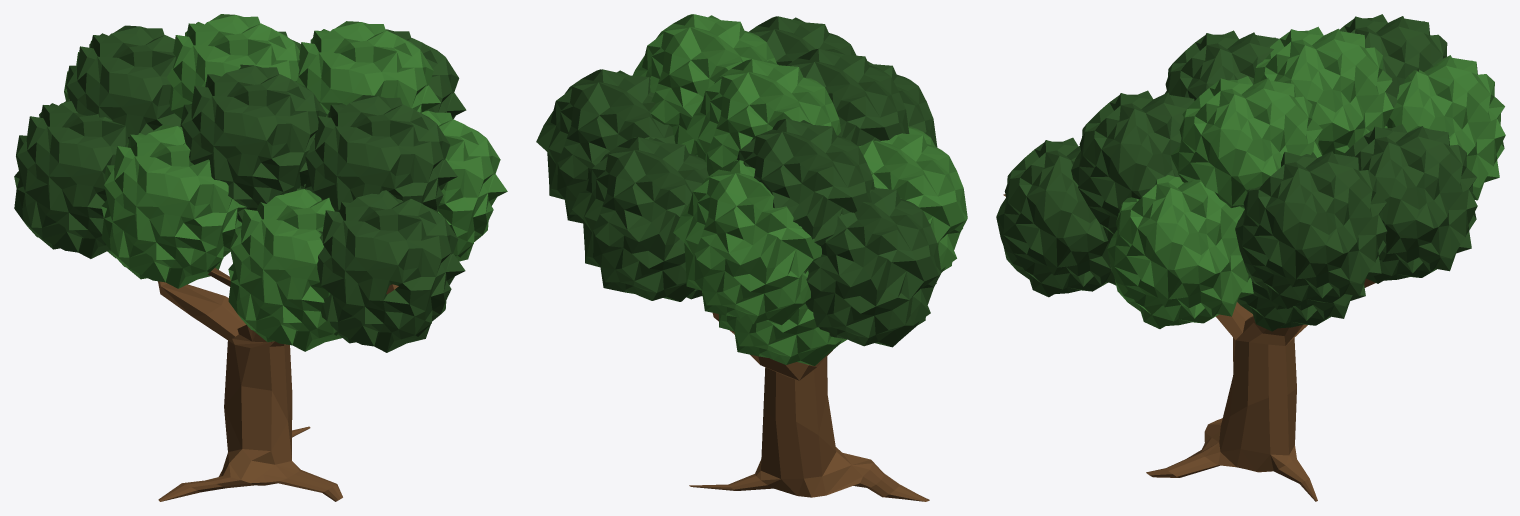
The model's file is tree.gltf.
3 renders of one model, left to right at view 1: azimuth 30°, elevation 25°; view 2: azimuth 150°, elevation 25°; view 3: azimuth 270°, elevation 25°, orthographic. The views are drawn at different scales.
Parts seen in each view (by area): view 1: LowPoly Tree .026; view 2: LowPoly Tree .026; view 3: LowPoly Tree .026.
Part boxes in pixels (x1,y1,x2,y2): LowPoly Tree .026: (14, 14, 507, 501); LowPoly Tree .026: (536, 14, 967, 501); LowPoly Tree .026: (996, 14, 1505, 501).
Bounding box in the file's own units: 2.27 × 2.28 × 2.44.
